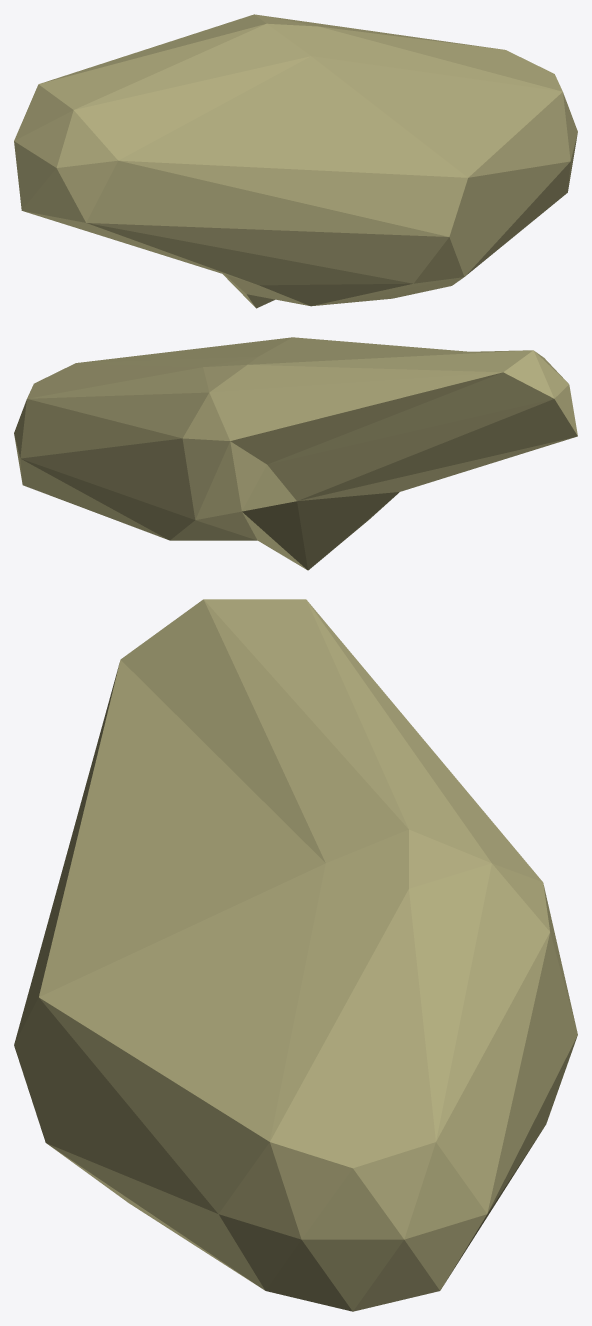
3 views of the same model, one above another, from view 1: azimuth 30°, elevation 25°; view 2: azimuth 150°, elevation 25°; view 3: azimuth 270°, elevation 25° (orthographic). The views are drawn at different scales.
Visible parts, largest first — view 1: Asteroid 3; view 2: Asteroid 3; view 3: Asteroid 3.
Part boxes in pixels (x1,y1,x2,y2): Asteroid 3: (14,14,577,308); Asteroid 3: (14,337,577,570); Asteroid 3: (14,599,577,1311).
Size of the model in its own units: 597 by 273 by 340.
